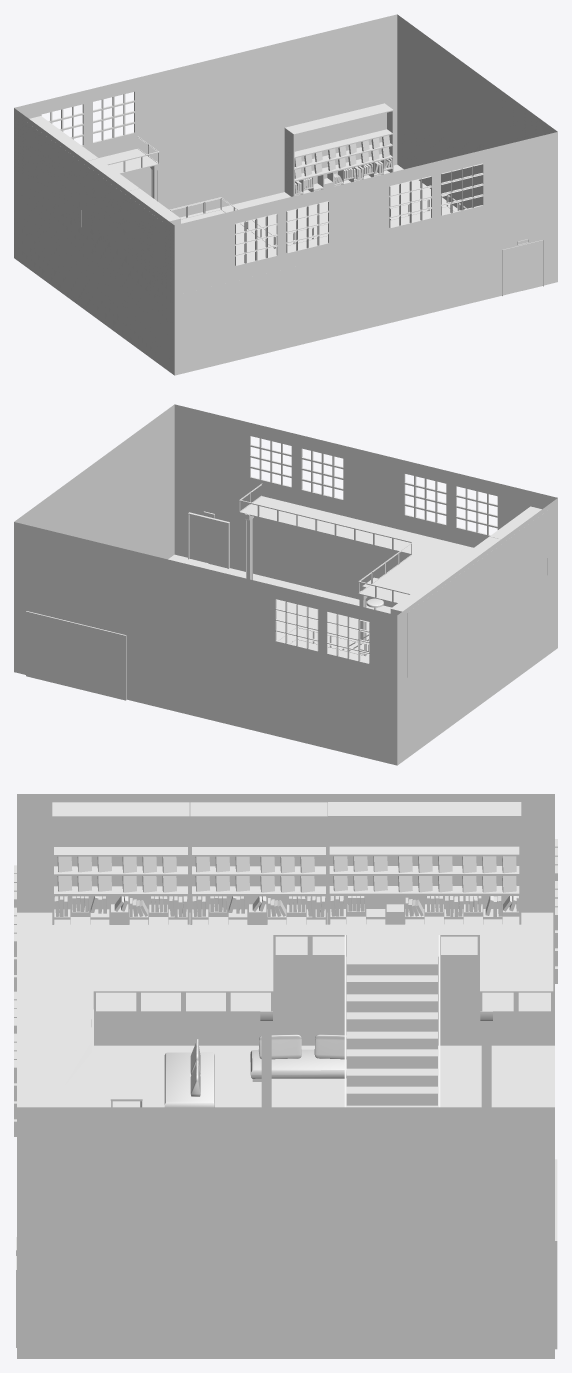
3 views of the same model, one above another, from view 1: azimuth 30°, elevation 25°; view 2: azimuth 150°, elevation 25°; view 3: azimuth 270°, elevation 25° (orthographic). The views are drawn at different scales.
Parts seen in each view (by area): view 1: Object006; view 2: Object006; view 3: Object006.
Part boxes in pixels (bbox=[...]): Object006: bbox=[14, 14, 557, 375]; Object006: bbox=[14, 404, 557, 765]; Object006: bbox=[14, 794, 557, 1358].
Bounding box in the file's own units: 39.14 × 14.73 × 28.71.
Materials: 4 (4 with a texture image).
